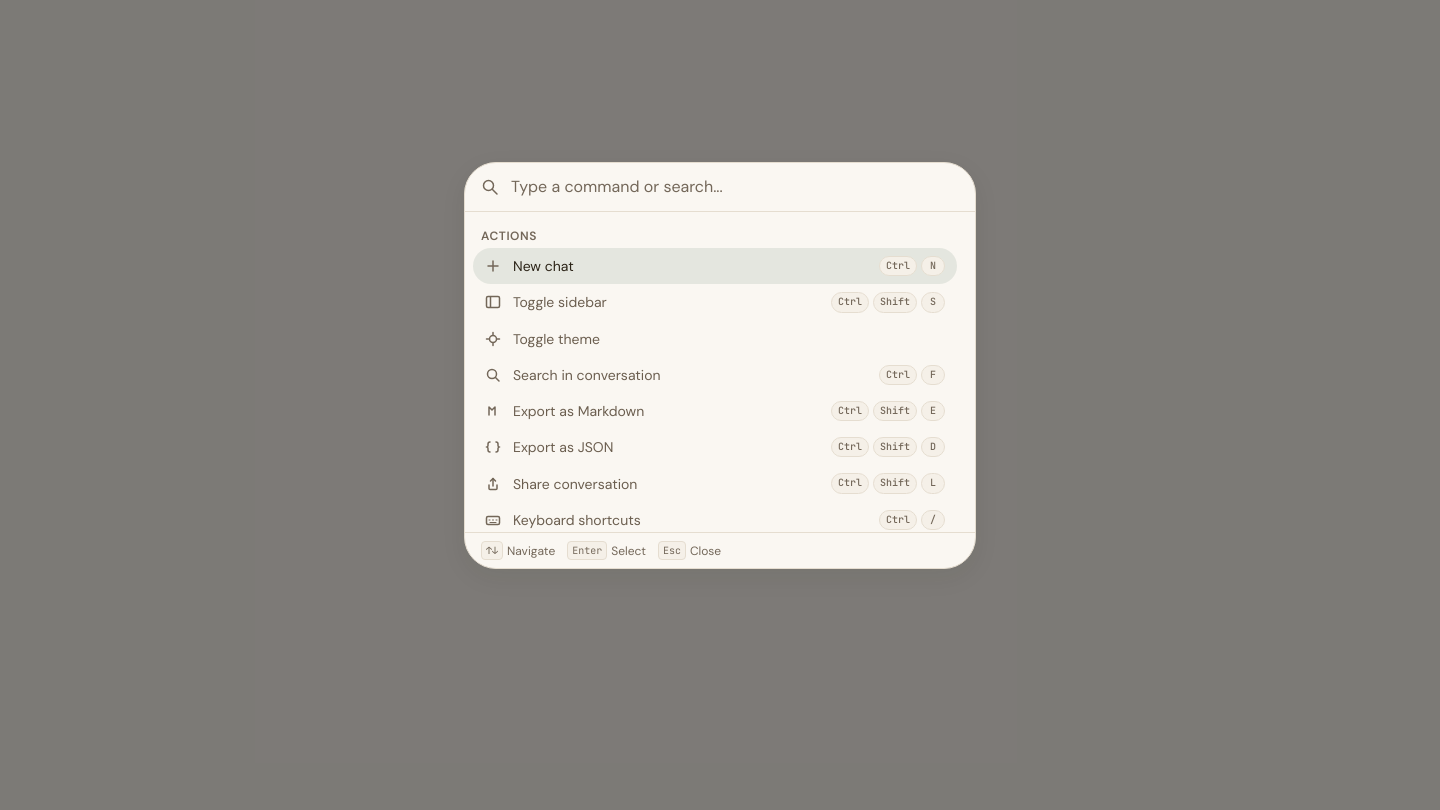
Test: CommandPalette › filters actions by query substring
This screenshot has width=1440, height=810.
In the dropdown named "Search commands": (735, 187) [511, 175, 959, 199], type "toggle"
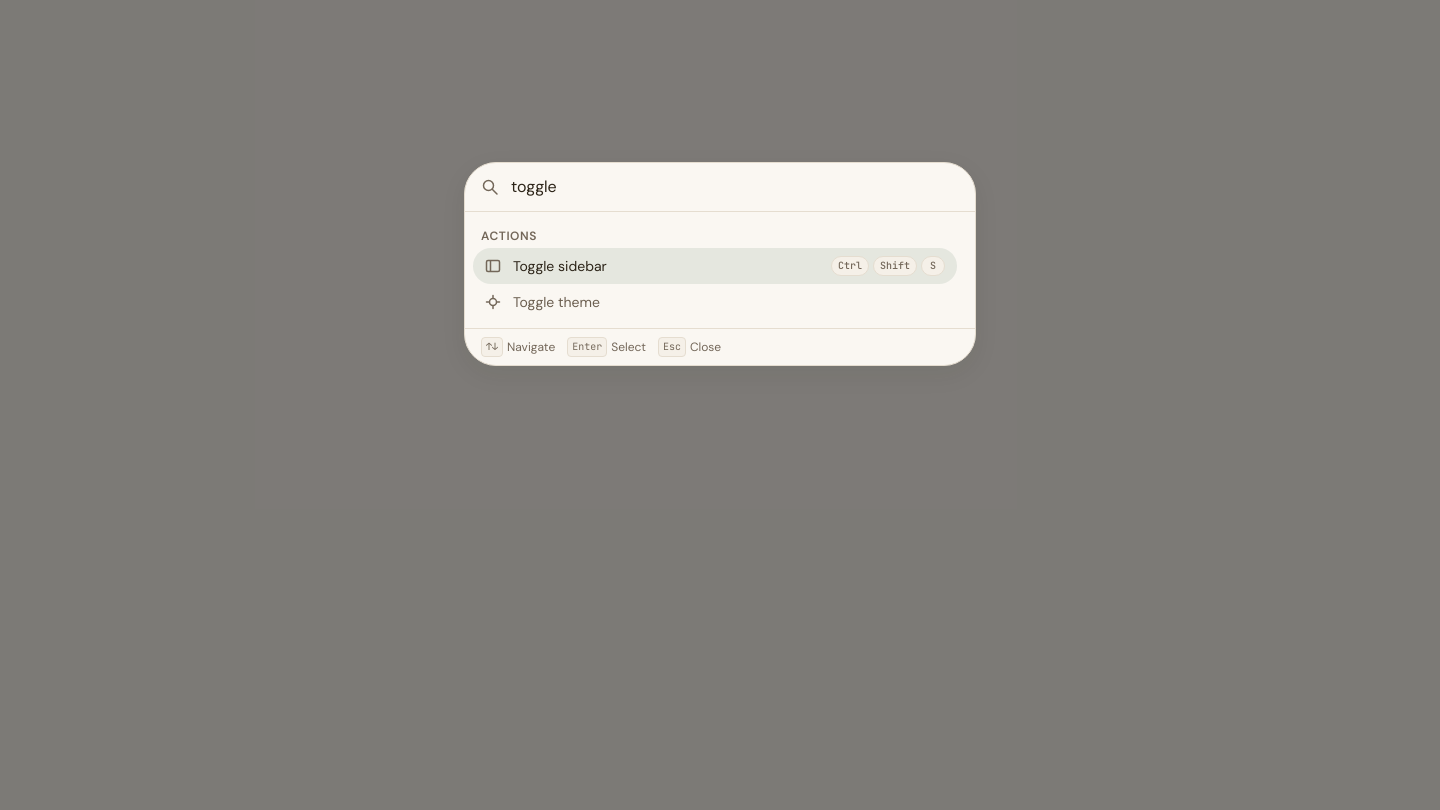
expect the text "Toggle sidebar" is shown: met, box [513, 257, 607, 275]
expect the option "New chat" is gone: met
expect the option "Export as Markdown" is gone: met
